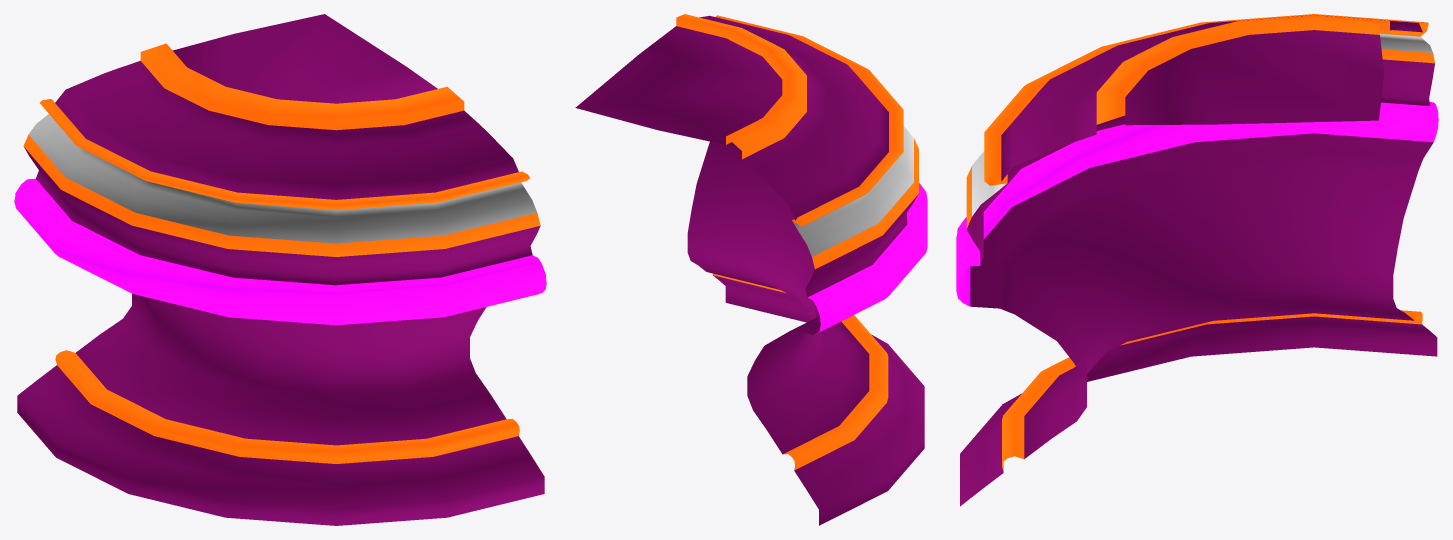
File: Coinbump.fbx
3 views of the same model, side by side, from view 1: azimuth 30°, elevation 25°; view 2: azimuth 150°, elevation 25°; view 3: azimuth 270°, elevation 25° (orthographic). The views are drawn at different scales.
Visible parts, largest first — view 1: Cylinder001; view 2: Cylinder001; view 3: Cylinder001.
Part boxes in pixels (left/top/right/bottom): Cylinder001: left=14, top=14, right=546, bottom=525; Cylinder001: left=575, top=14, right=927, bottom=525; Cylinder001: left=956, top=14, right=1438, bottom=506.
Bounding box in the file's own units: 586 × 603 × 662.
